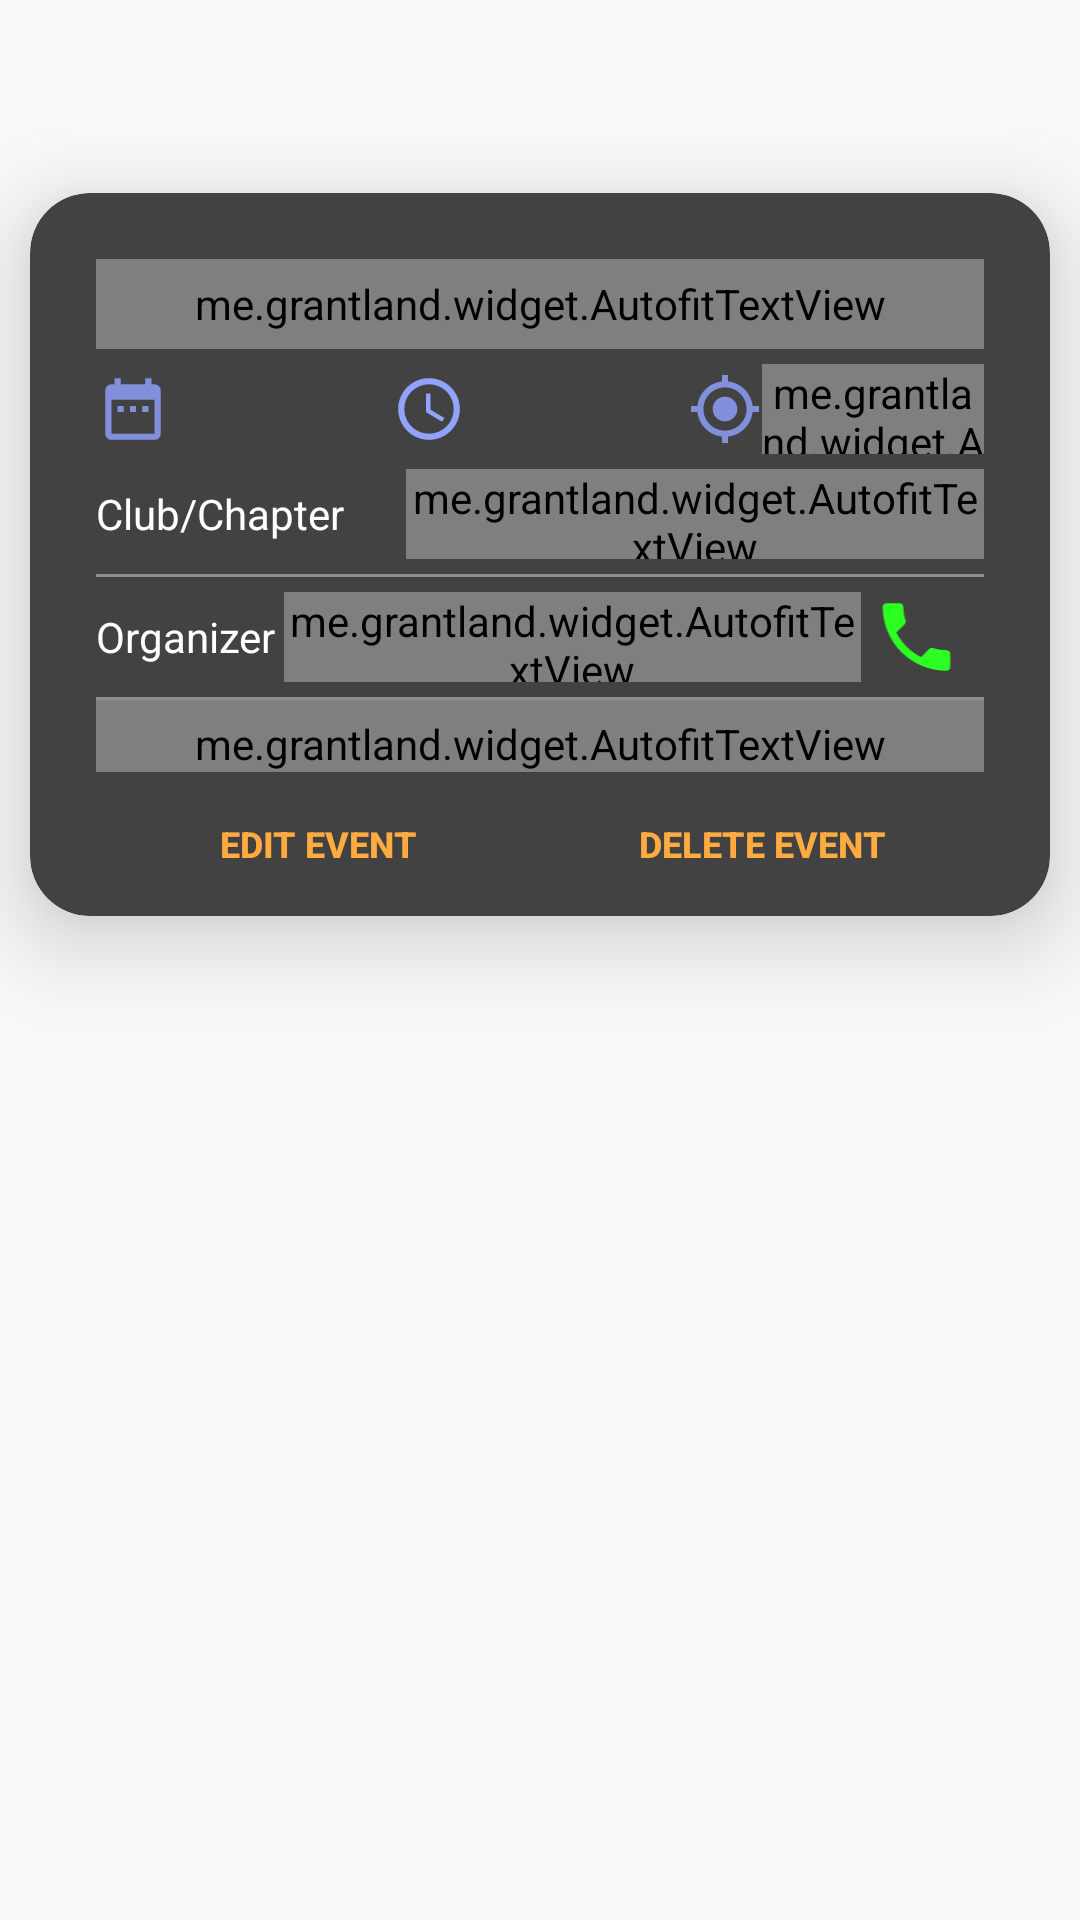

Icons on this 1080w x 1920h Android screen, each with its box as (x1, y1, x2, y2):
Call: (882, 603, 951, 671)
Date: (105, 378, 161, 440)
Time: (398, 378, 460, 440)
Venue: (691, 375, 759, 443)
